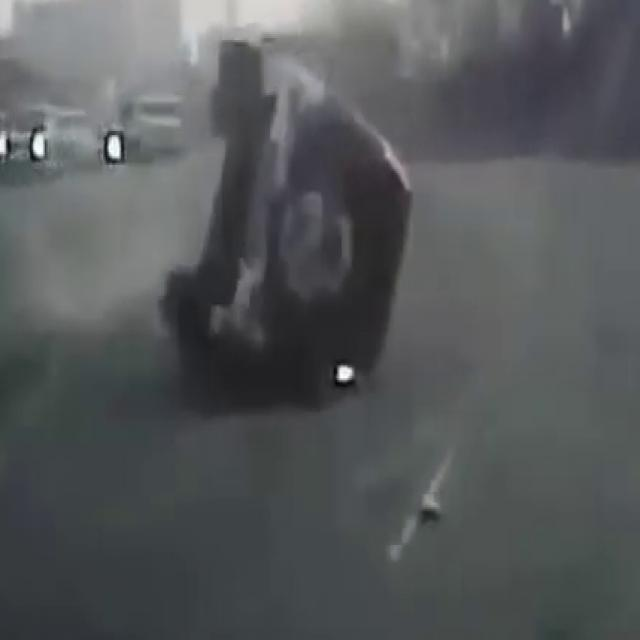accident: (156, 7, 437, 410)
